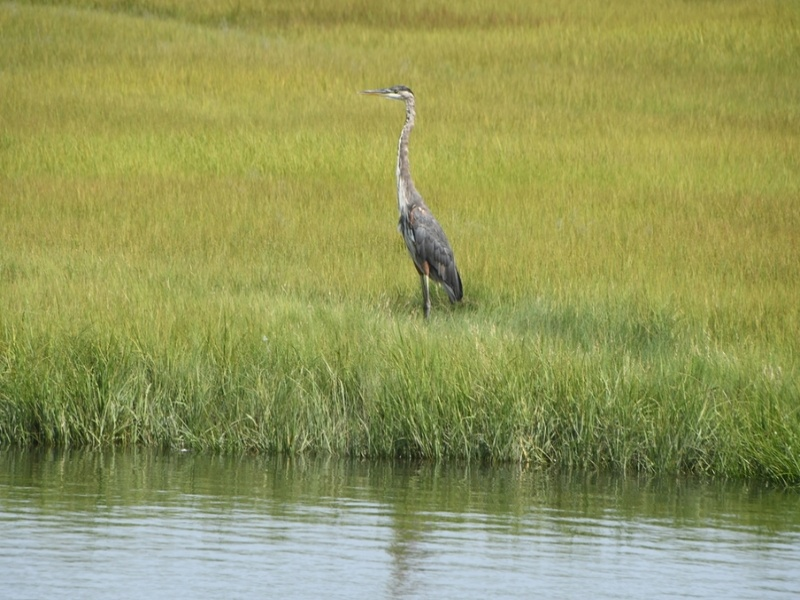heron: (364, 82, 466, 328)
